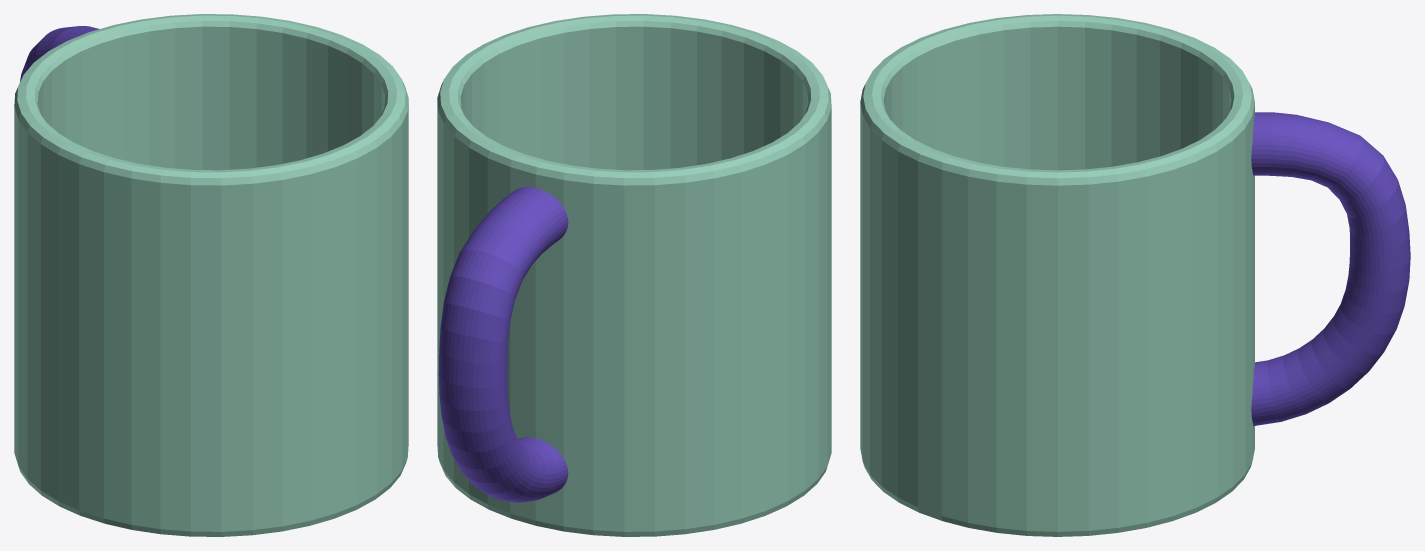
Rendered from post.glb.
3 views of the same model, side by side, from view 1: azimuth 30°, elevation 25°; view 2: azimuth 150°, elevation 25°; view 3: azimuth 270°, elevation 25° (orthographic).
Visible parts, largest first — view 1: world; view 2: world; view 3: world.
Part boxes in pixels (x1,y1,x2,y2): world: (14, 14, 408, 536); world: (437, 14, 831, 536); world: (860, 14, 1410, 536).
Size of the model in its own units: 0.7171 by 0.726 by 1.
